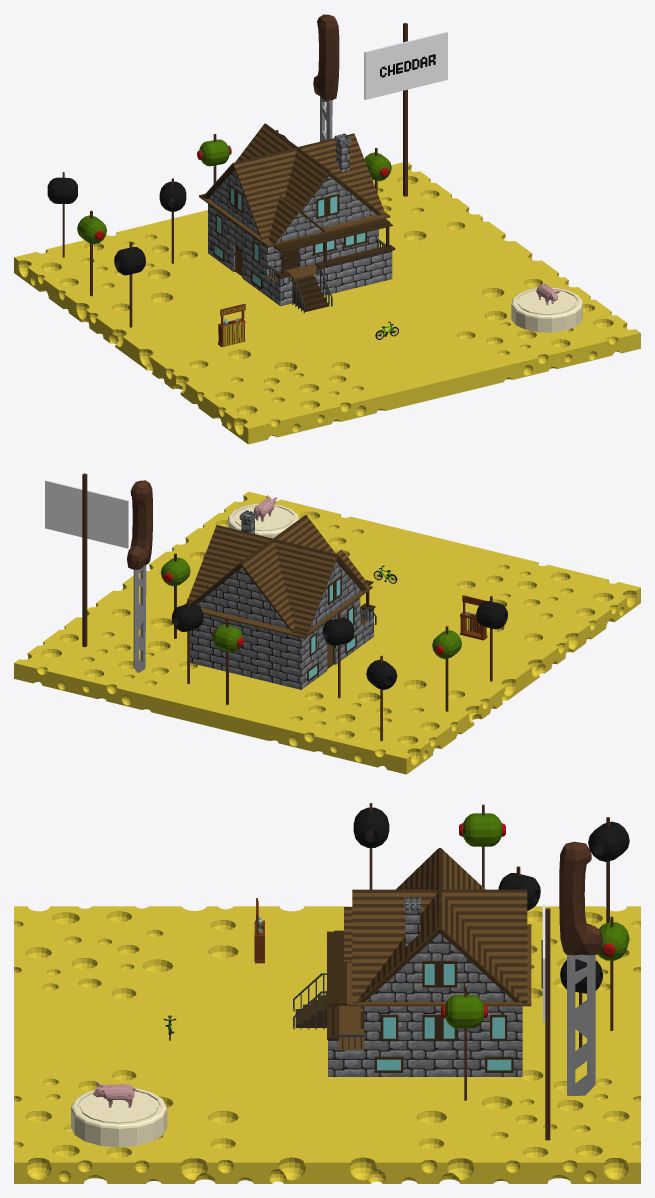
3 renders of one model, top to bottom at view 1: azimuth 30°, elevation 25°; view 2: azimuth 150°, elevation 25°; view 3: azimuth 270°, elevation 25°, orthographic. The views are drawn at different scales.
Visible parts, largest first — view 1: Cube.022, Cube.586, Cube.023, Cylinder.016, Cube.024, Sphere.017, OBJRANDOM_LEMONADE_STAND, Sphere.016, Sphere.020, Sphere.018, Sphere.022, Sphere.019; view 2: Cube.022, Cube.586, Cube.023, Cube.024, Cylinder.016, Sphere.017, Sphere.020, Sphere.021, Sphere.016, Sphere.018, Sphere.022, Sphere.019 (+1 smaller); view 3: Cube.022, Cube.586, Cube.024, Cylinder.016, Cube.023, Sphere.019, Sphere.016, Sphere.018, Sphere.017, Sphere.022, Sphere.020, Sphere.021 (+2 smaller).
Part boxes in pixels (x1,y1,x2,y2): Cube.022: (14,162,640,444); Cube.586: (199,123,395,313); Cube.023: (364,23,447,196); Cylinder.016: (511,287,582,332); Cube.024: (313,14,339,141); Sphere.017: (114,242,145,327); OBJRANDOM_LEMONADE_STAND: (218,303,245,346); Sphere.016: (47,172,77,257); Sphere.020: (159,178,186,263); Sphere.018: (77,210,106,296); Sphere.022: (197,134,231,183); Sphere.019: (364,148,391,192); Cube.022: (14,491,640,774); Cube.586: (184,510,376,689); Cube.023: (45,473,128,647); Cube.024: (127,480,152,672); Cylinder.016: (228,504,298,538); Sphere.017: (476,596,507,681); Sphere.020: (322,612,354,698); Sphere.021: (171,598,203,683); Sphere.016: (366,655,397,741); Sphere.018: (432,626,461,711); Sphere.022: (212,619,244,704); Sphere.019: (160,553,190,638); Cube.022: (14,906,640,1183); Cube.586: (293,848,531,1076); Cube.024: (559,841,602,1095); Cylinder.016: (71,1088,167,1147); Cube.023: (541,904,550,1140); Sphere.019: (441,986,487,1100); Sphere.016: (588,817,629,922); Sphere.018: (459,804,505,888); Sphere.017: (353,803,389,889); Sphere.022: (598,916,629,1030); Sphere.020: (498,866,540,910); Sphere.021: (560,959,602,1048).
Size of the model in its own units: 3917 by 2030 by 4000.
36 materials, 5 textured.
